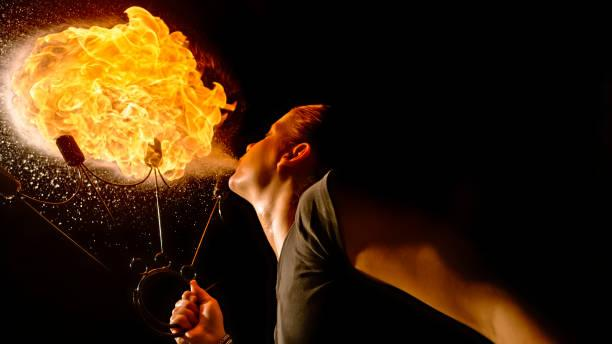Fire: (17, 25, 225, 153)
